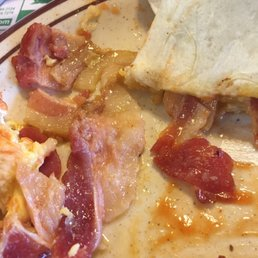bacon: (152, 120, 232, 195), (22, 26, 92, 92)
